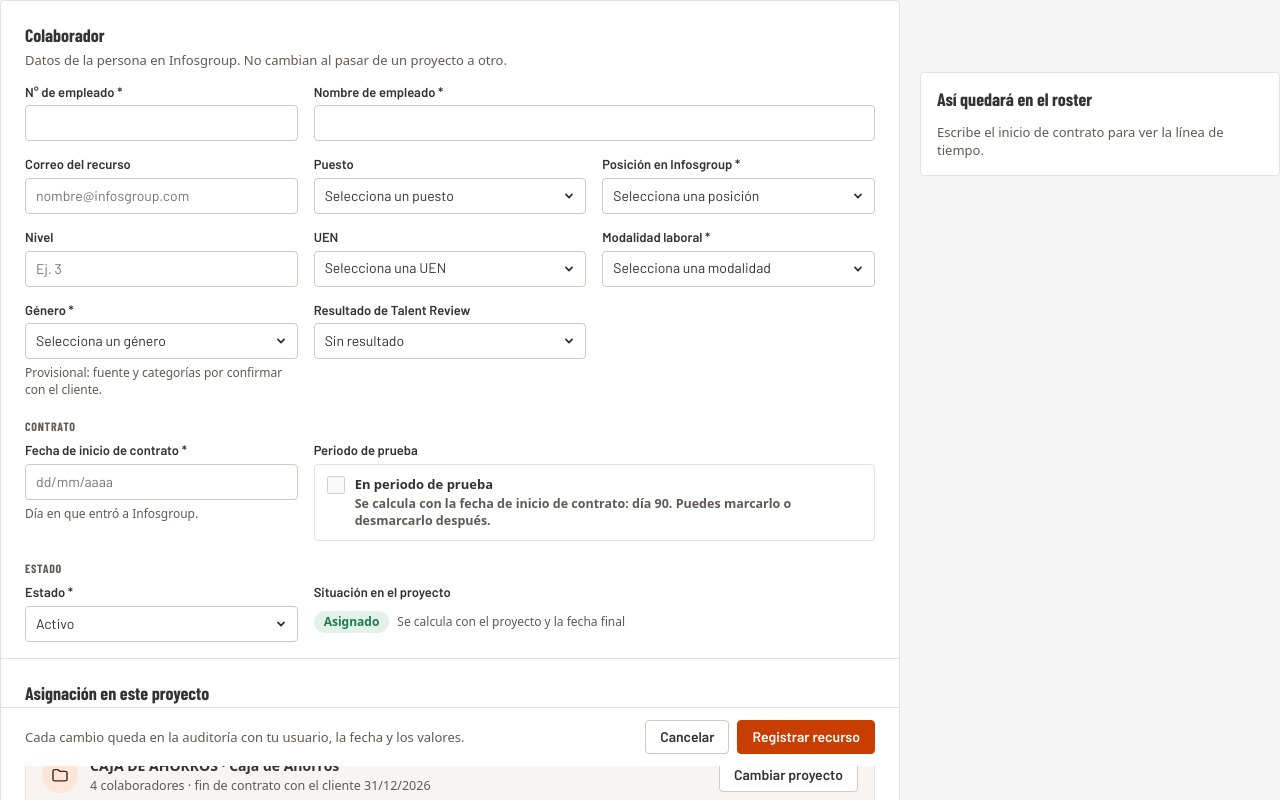
Test: RegisterResourceForm › summarizes the missing fields, the NPD lead and end date included, and creates nothing
The width and height of the screenshot is (1280, 800).
Click the button "Registrar recurso": (806, 737) [737,720,875,754]
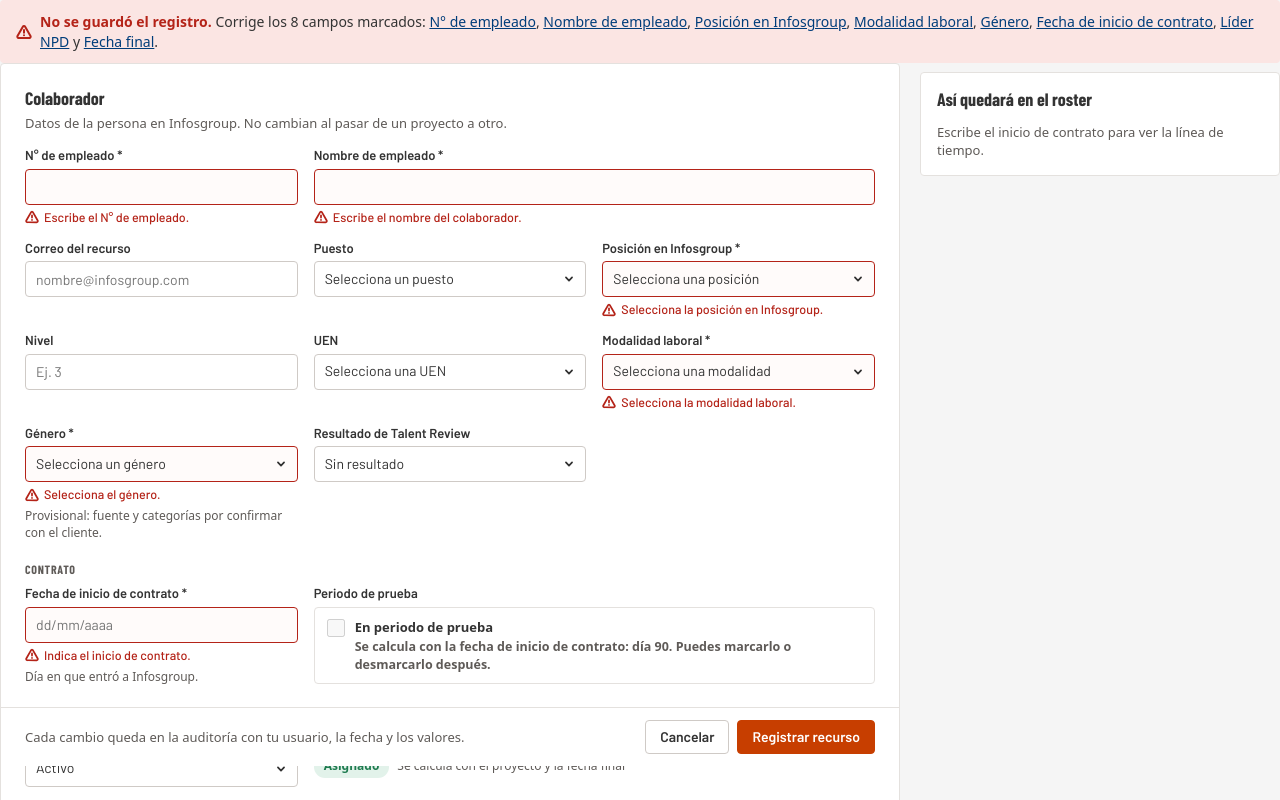
Result: the message shows "No se guardó el registro. Corrige los 8 campos marcados" at [0,0,1279,63]
Result: the link "Líder NPD" is shown at [40,12,1254,51]
Result: the link "Fecha final" is shown at [84,32,154,51]
